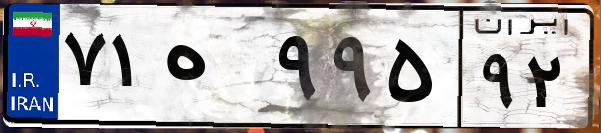1: (110, 28, 158, 98)
2: (525, 38, 570, 115)
5: (385, 28, 445, 110)
7: (57, 26, 110, 100)
9: (270, 28, 330, 110), (330, 28, 385, 110), (475, 38, 525, 113)
ه: (158, 20, 270, 120)
